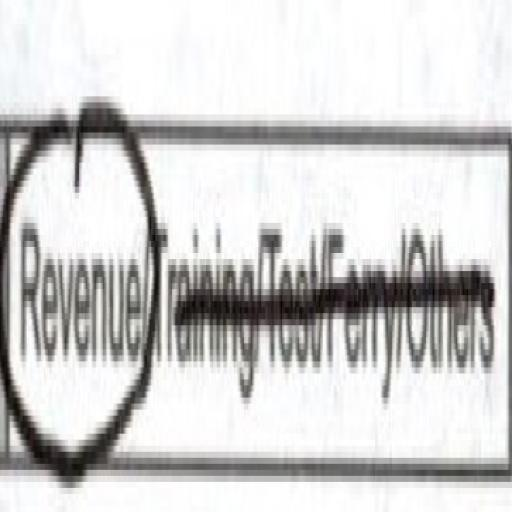check: (0, 4, 149, 512)
